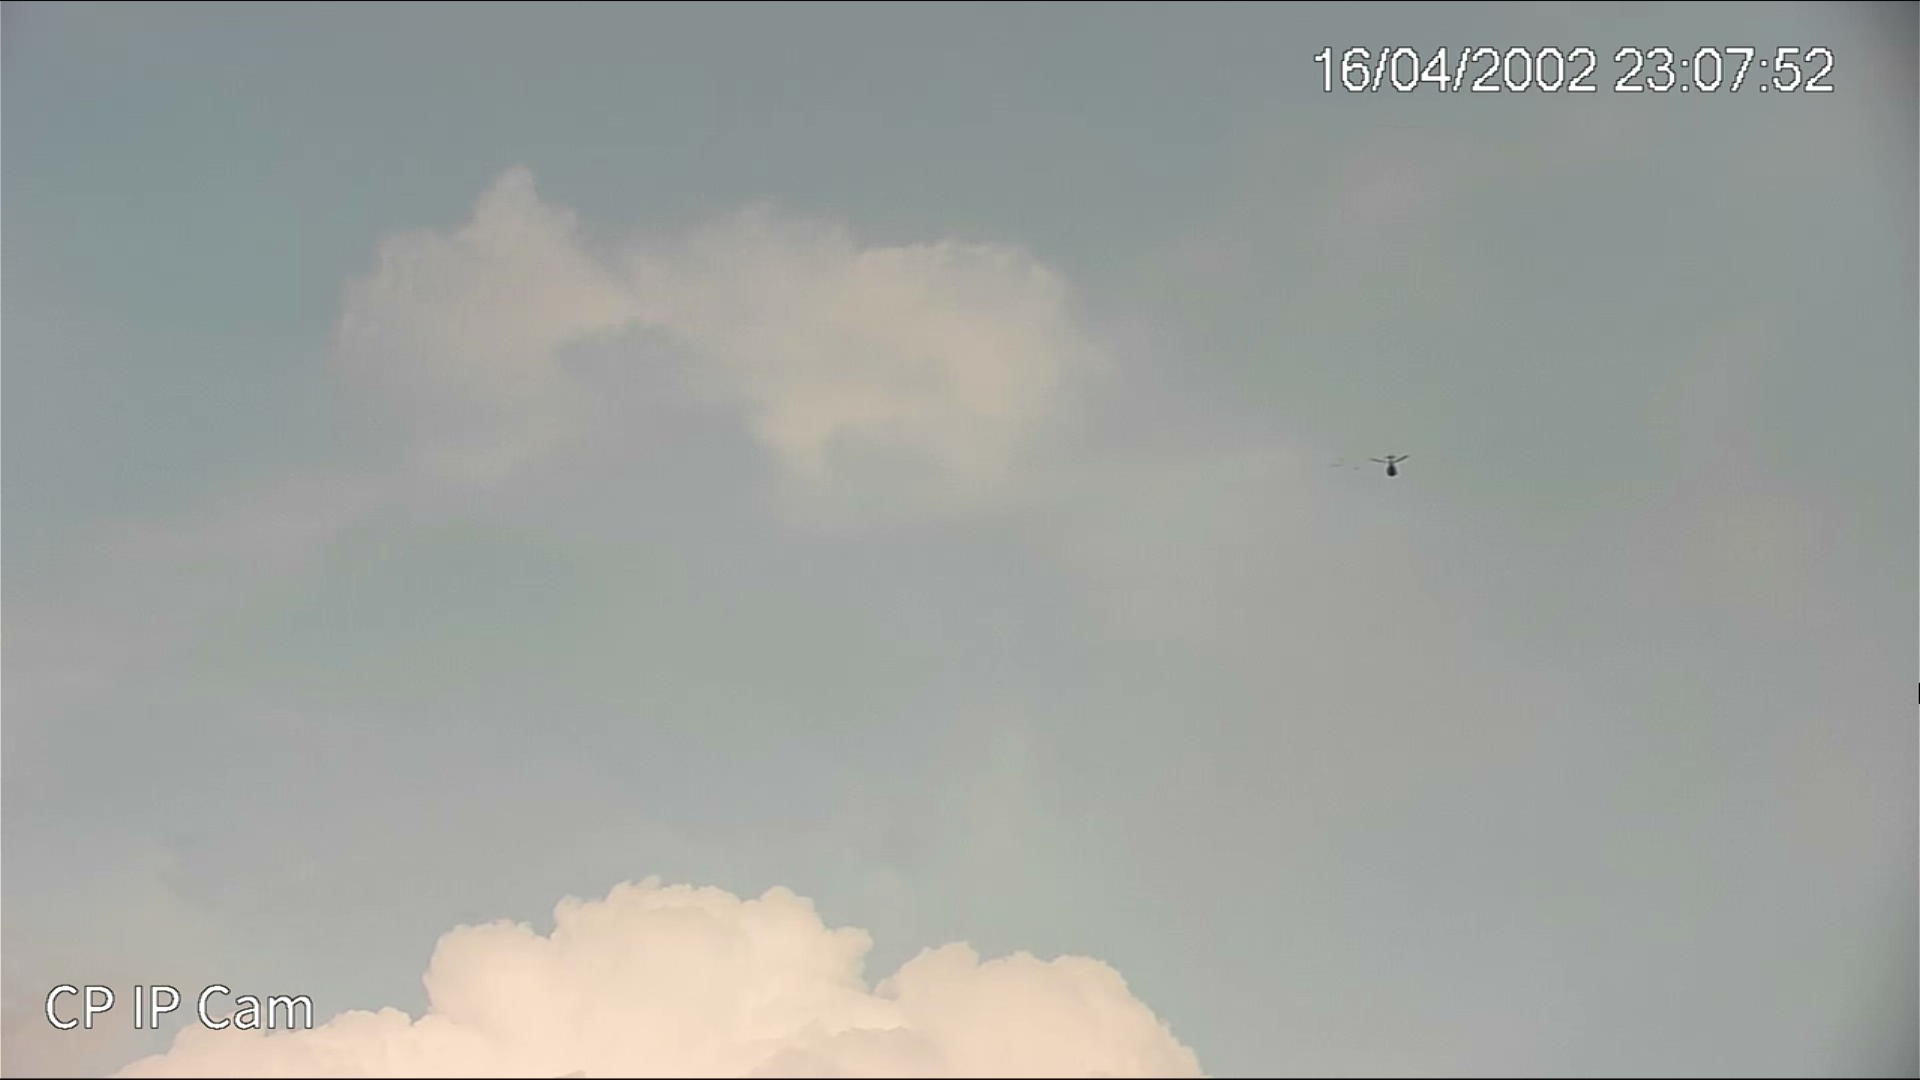SU_30: (1371, 451, 1407, 477)
